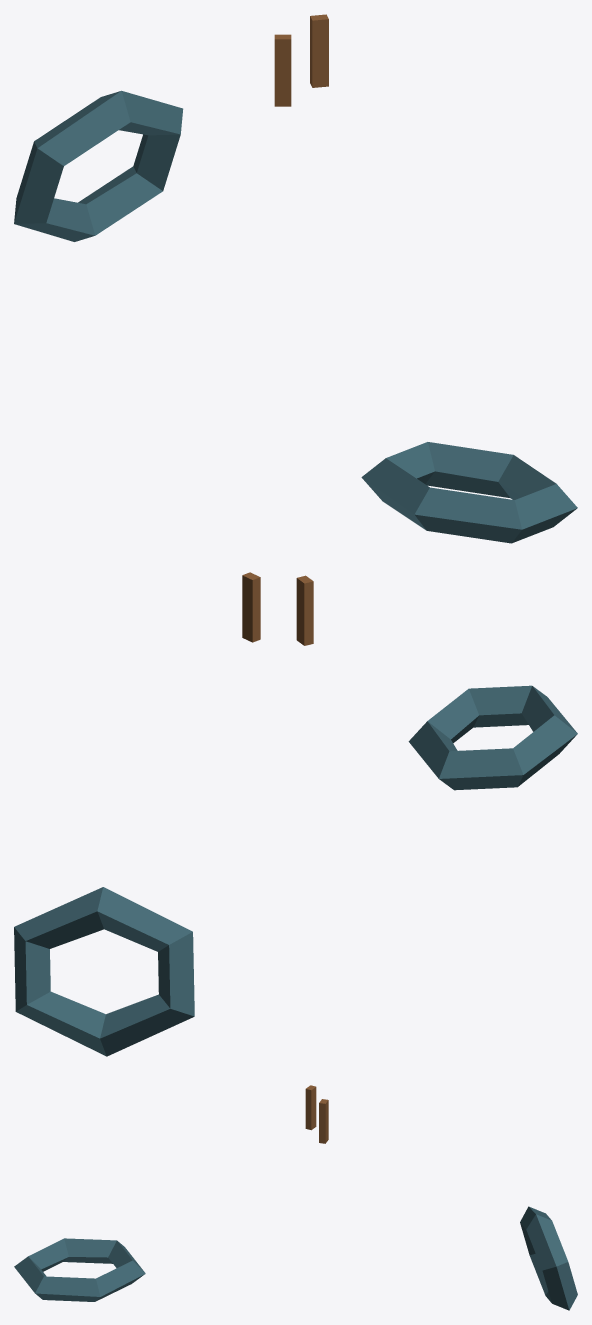
3 views of the same model, one above another, from view 1: azimuth 30°, elevation 25°; view 2: azimuth 150°, elevation 25°; view 3: azimuth 270°, elevation 25° (orthographic). The views are drawn at different scales.
Parts seen in each view (by area): view 1: Torus031_metal_0, Torus041_metal_0, Box623_brown_0, Box626_brown_0; view 2: Torus041_metal_0, Torus031_metal_0, Box623_brown_0, Box626_brown_0; view 3: Torus031_metal_0, Torus041_metal_0, Box626_brown_0, Box623_brown_0.
Boxes of the visible parts, x1=… form: Torus031_metal_0: x1=361, y1=442, x2=577, y2=543; Torus041_metal_0: x1=14, y1=90, x2=183, y2=241; Box623_brown_0: x1=310, y1=14, x2=328, y2=87; Box626_brown_0: x1=274, y1=34, x2=291, y2=106; Torus041_metal_0: x1=14, y1=887, x2=194, y2=1056; Torus031_metal_0: x1=408, y1=685, x2=577, y2=790; Box623_brown_0: x1=242, y1=572, x2=260, y2=642; Box626_brown_0: x1=296, y1=575, x2=313, y2=645; Torus031_metal_0: x1=14, y1=1238, x2=145, y2=1301; Torus041_metal_0: x1=520, y1=1206, x2=577, y2=1310; Box626_brown_0: x1=305, y1=1085, x2=316, y2=1130; Box623_brown_0: x1=319, y1=1099, x2=328, y2=1143.
Bounding box in the file's own units: 376 × 687 × 1641.
